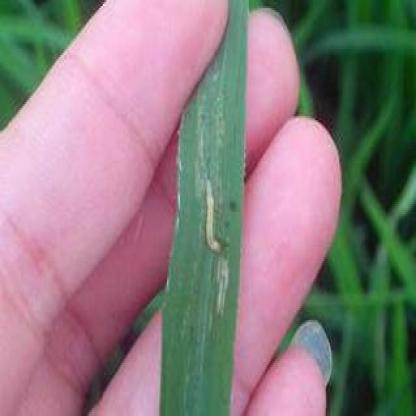leaf-folder: (199, 174, 224, 264)
